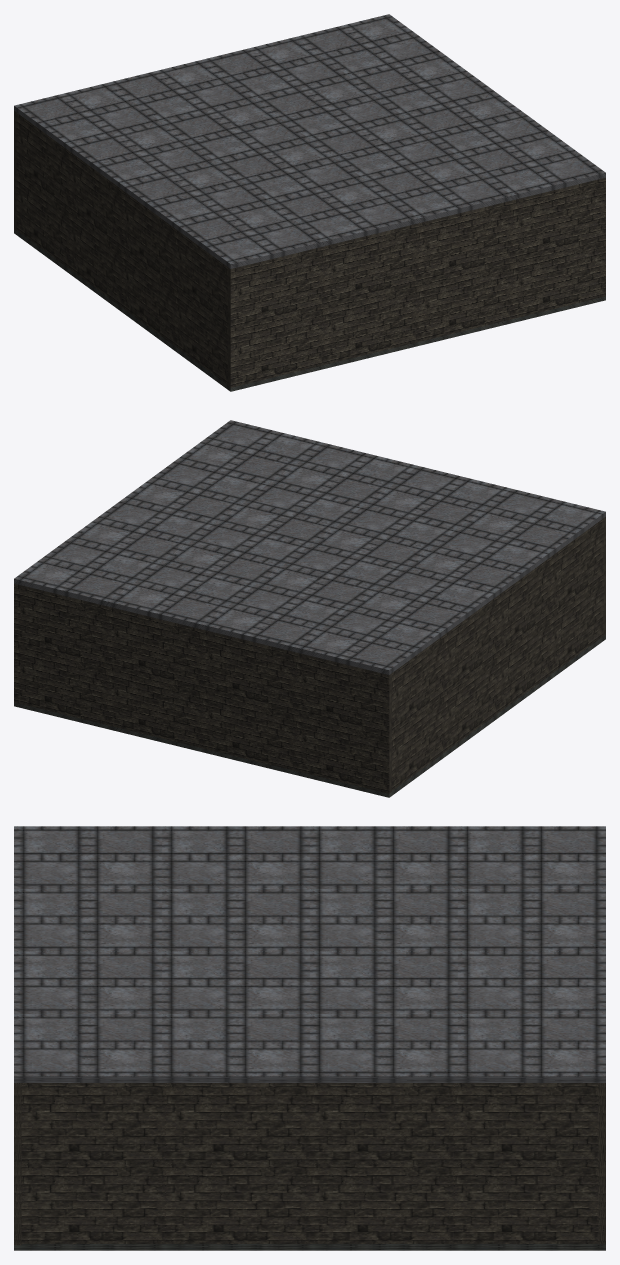
The model's file is startroom.fbx.
3 views of the same model, one above another, from view 1: azimuth 30°, elevation 25°; view 2: azimuth 150°, elevation 25°; view 3: azimuth 270°, elevation 25° (orthographic). The views are drawn at different scales.
Visible parts, largest first — view 1: Roof, Opening2, Opening3, Floor, Wall2; view 2: Roof, Opening4, Opening3, Floor, Wall4; view 3: Roof, Opening1, Floor, Opening4, Wall2, Opening2.
Part boxes in pixels (bbox=[...]): Roof: bbox=[14, 14, 605, 268]; Opening2: bbox=[228, 178, 605, 387]; Opening3: bbox=[16, 113, 227, 384]; Floor: bbox=[14, 229, 605, 391]; Wall2: bbox=[228, 177, 605, 386]; Roof: bbox=[14, 420, 605, 674]; Opening4: bbox=[14, 584, 391, 793]; Opening3: bbox=[392, 519, 603, 790]; Floor: bbox=[14, 634, 605, 797]; Wall4: bbox=[14, 583, 391, 792]; Roof: bbox=[14, 826, 605, 1082]; Opening1: bbox=[21, 1083, 598, 1243]; Floor: bbox=[14, 1244, 605, 1250]; Opening4: bbox=[598, 1084, 605, 1243]; Wall2: bbox=[14, 1083, 21, 1243]; Opening2: bbox=[14, 1084, 21, 1245].
Size of what is drawn, in the model's own units: 4002 by 1300 by 4002.
